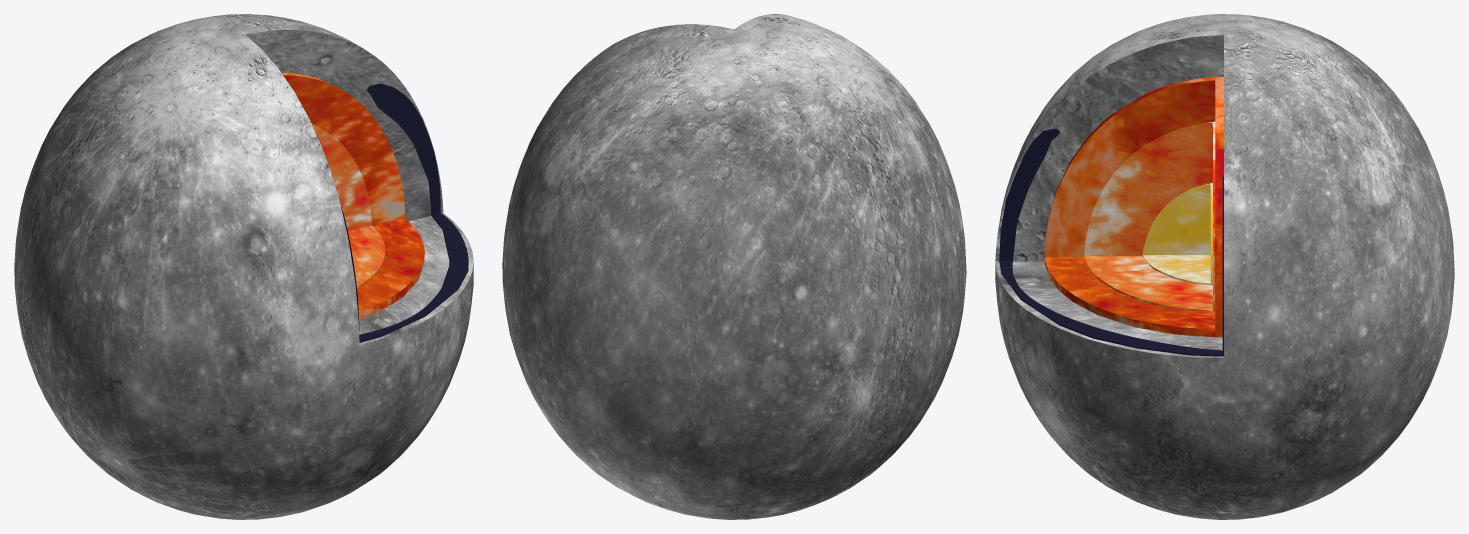
File: water_body lvl 2 crossection low.glb
3 views of the same model, side by side, from view 1: azimuth 30°, elevation 25°; view 2: azimuth 150°, elevation 25°; view 3: azimuth 270°, elevation 25° (orthographic).
Parts seen in each view (by area): view 1: Surface_Cross_sected, Surface_Cross_sected_crop, Mantle_Cross_sected_crop, Water Layer_Cross_sected_crop, Liquid Core_Cross_sected_crop, Water Layer_Cross_sected, Mantle_Cross_sected; view 2: Surface_Cross_sected; view 3: Surface_Cross_sected, Surface_Cross_sected_crop, Mantle_Cross_sected_crop, Liquid Core_Cross_sected_crop, Solid Core_Cross_sected_crop, Water Layer_Cross_sected_crop, Mantle_Cross_sected, Water Layer_Cross_sected, Liquid Core_Cross_sected.
Boxes of the visible parts, x1,y1,x2,y2 form: Surface_Cross_sected: (14,14,473,519); Surface_Cross_sected_crop: (246,30,473,344); Mantle_Cross_sected_crop: (283,75,424,311); Water Layer_Cross_sected_crop: (341,84,468,340); Liquid Core_Cross_sected_crop: (312,124,385,286); Water Layer_Cross_sected: (343,83,468,342); Mantle_Cross_sected: (282,72,424,319); Surface_Cross_sected: (502,14,966,519); Surface_Cross_sected: (995,14,1454,519); Surface_Cross_sected_crop: (995,35,1223,358); Mantle_Cross_sected_crop: (1044,80,1214,329); Liquid Core_Cross_sected_crop: (1084,122,1212,310); Solid Core_Cross_sected_crop: (1142,184,1209,283); Water Layer_Cross_sected_crop: (999,129,1221,354); Mantle_Cross_sected: (1045,76,1223,337); Water Layer_Cross_sected: (999,128,1223,356); Liquid Core_Cross_sected: (1087,121,1215,312).
Size of the model in its own units: 1.93 by 2.16 by 1.94.
Materials: 8 (6 with a texture image).
